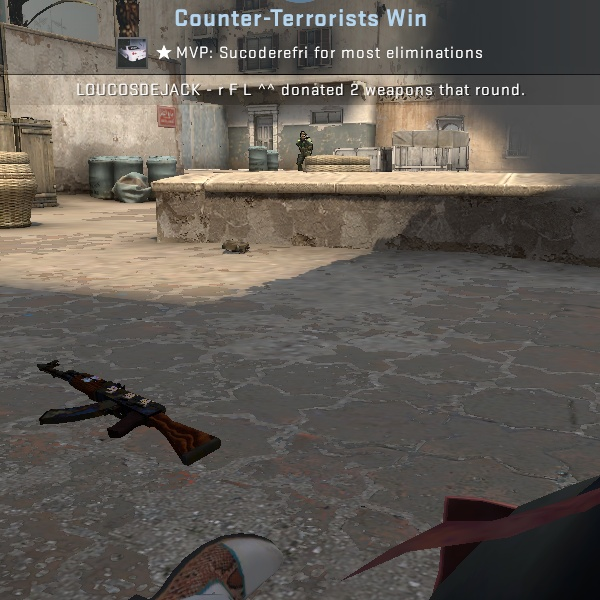ct_body: (292, 128, 317, 171)
ct_head: (298, 129, 311, 141)
